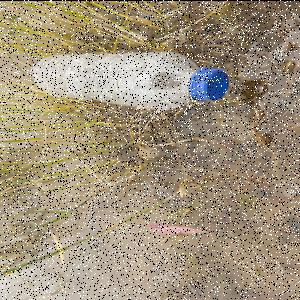Plastic-bottle: (33, 51, 231, 111)
